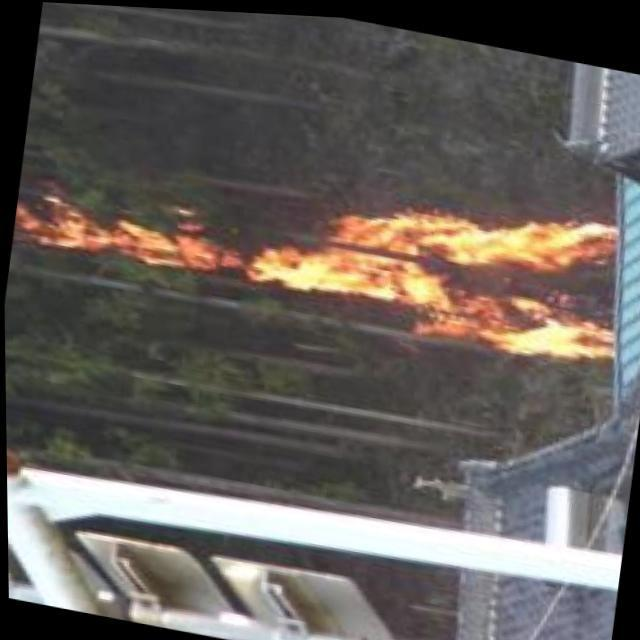fire: (16, 109, 626, 371)
